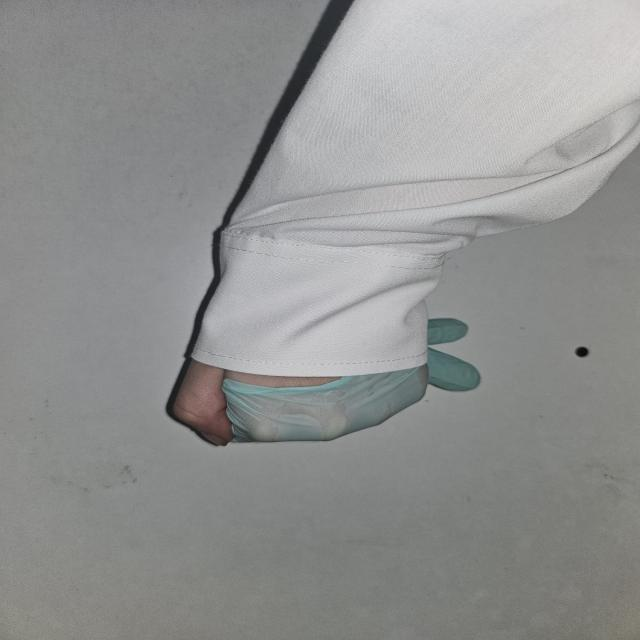glove_partial: (163, 314, 483, 448)
